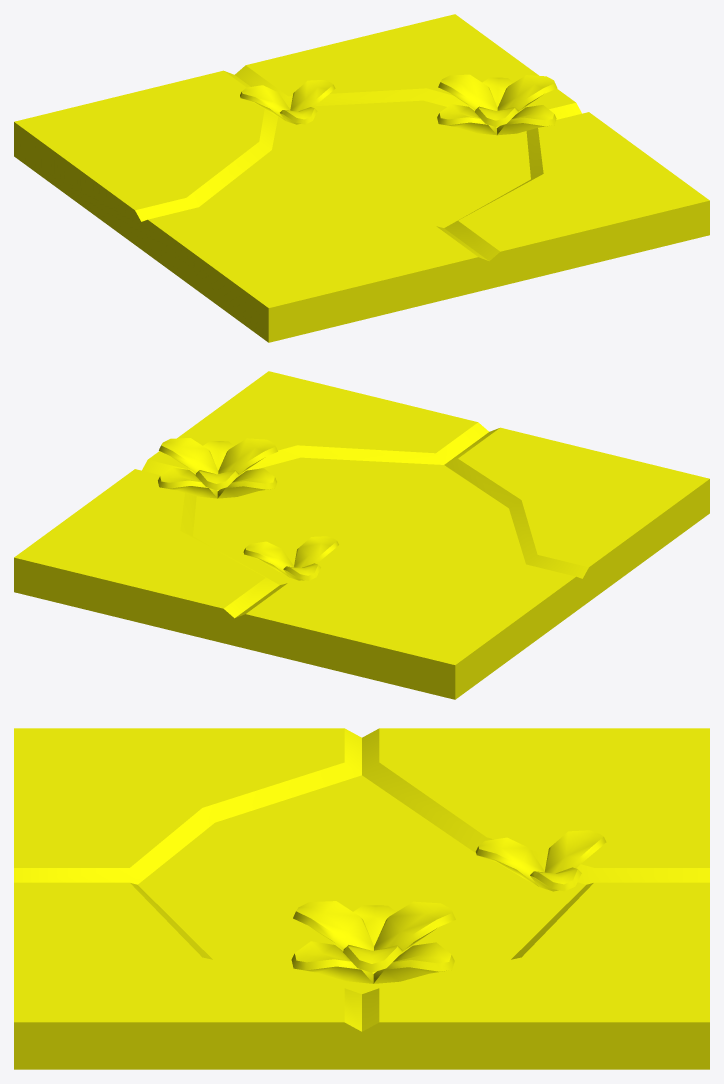
Rendered from kaykit-floor-tile-small-weeds-b.glb.
3 views of the same model, one above another, from view 1: azimuth 30°, elevation 25°; view 2: azimuth 150°, elevation 25°; view 3: azimuth 270°, elevation 25° (orthographic). The views are drawn at different scales.
Parts seen in each view (by area): view 1: floor_tile_small_weeds_B; view 2: floor_tile_small_weeds_B; view 3: floor_tile_small_weeds_B.
Part boxes in pixels (x1=…): floor_tile_small_weeds_B: x1=14, y1=14, x2=709, y2=342; floor_tile_small_weeds_B: x1=14, y1=371, x2=709, y2=699; floor_tile_small_weeds_B: x1=14, y1=728, x2=709, y2=1069.
Size of the model in its own units: 2 by 0.2954 by 2.
